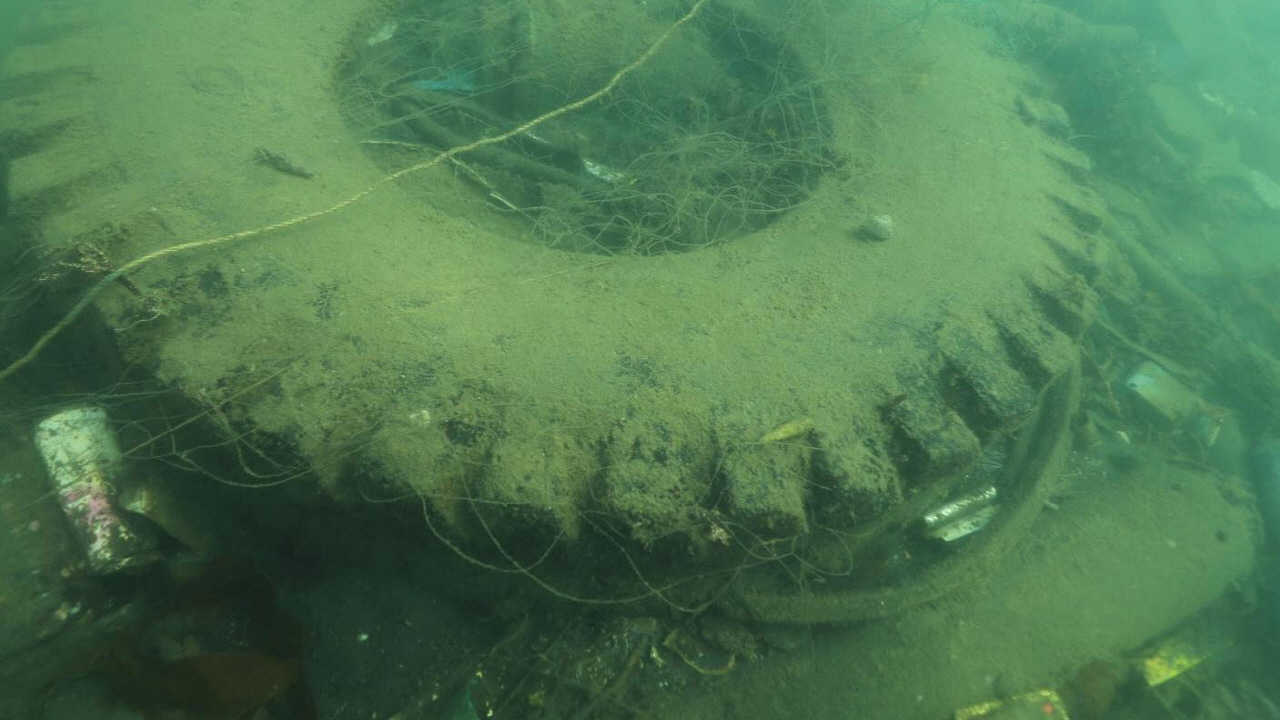eel fish trap: (634, 465, 1255, 720)
tire: (0, 0, 1111, 544)
